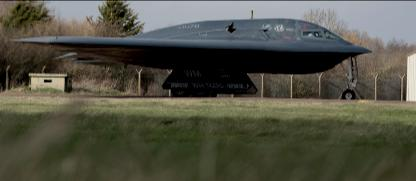B1: (4, 17, 372, 98)
